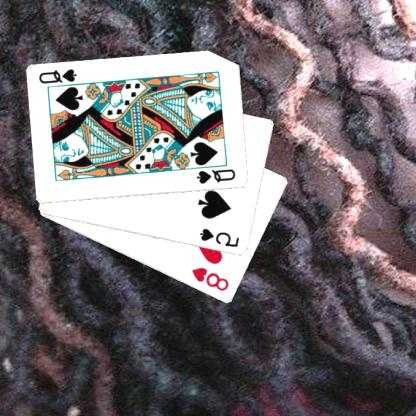5S: (199, 226, 243, 249)
8H: (191, 265, 232, 293)
QS: (38, 66, 80, 86), (196, 167, 238, 186)
